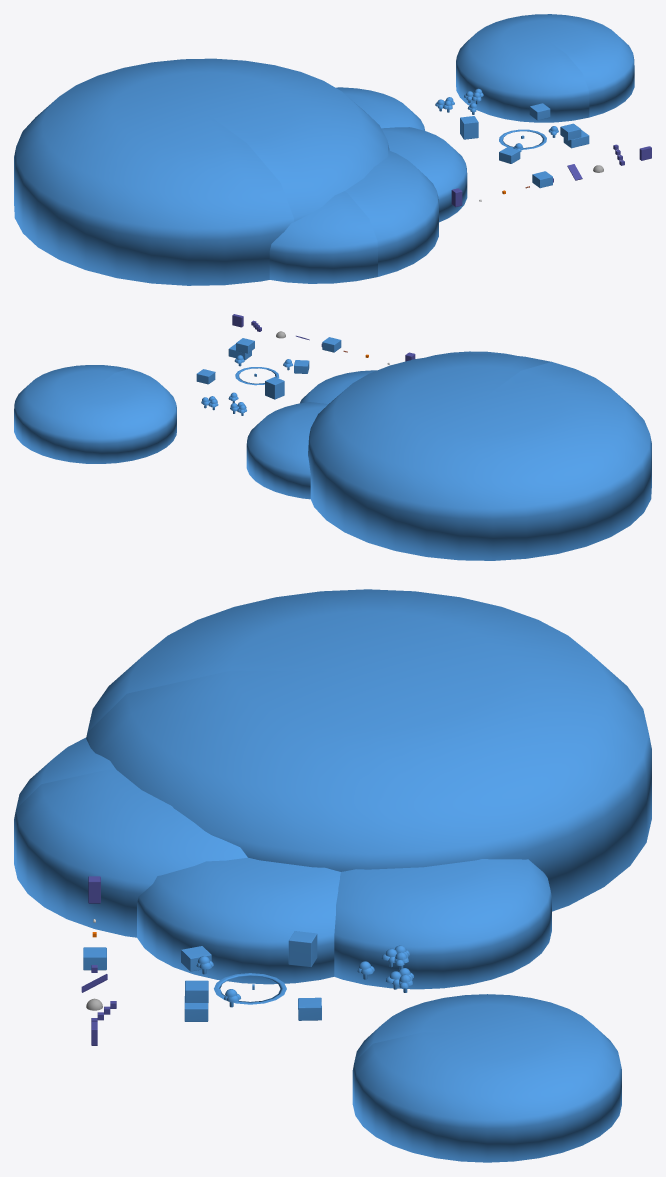
Rendered from Village.glb.
3 views of the same model, one above another, from view 1: azimuth 30°, elevation 25°; view 2: azimuth 150°, elevation 25°; view 3: azimuth 270°, elevation 25° (orthographic). The views are drawn at different scales.
Parts seen in each view (by area): view 1: Cyl 16 copy (×2), Cyl 16 copy copy (×2), Cyl 16, Box 1 copy; view 2: Cyl 16 copy (×2), Cyl 16 copy copy, Cyl 16, Box 1 copy; view 3: Cyl 16 copy (×2), Cyl 16 copy copy (×2), Cyl 16, Box 1 copy.
Boxes of the visible parts, x1,y1,x2,y2 form: Cyl 16 copy (×2): (14,58,424,285); Cyl 16 copy copy (×2): (269,14,634,283); Cyl 16: (381,127,467,222); Box 1 copy: (460,116,478,139); Cyl 16 copy (×2): (246,353,651,560); Cyl 16 copy copy: (14,365,176,463); Cyl 16: (299,370,376,403); Box 1 copy: (265,377,284,399); Cyl 16 copy (×2): (86,589,651,989); Cyl 16 copy copy (×2): (14,737,621,1162); Cyl 16: (137,857,340,984); Box 1 copy: (288,931,317,967).
Size of what is drawn, in the model's own units: 529 by 78.37 by 306.
